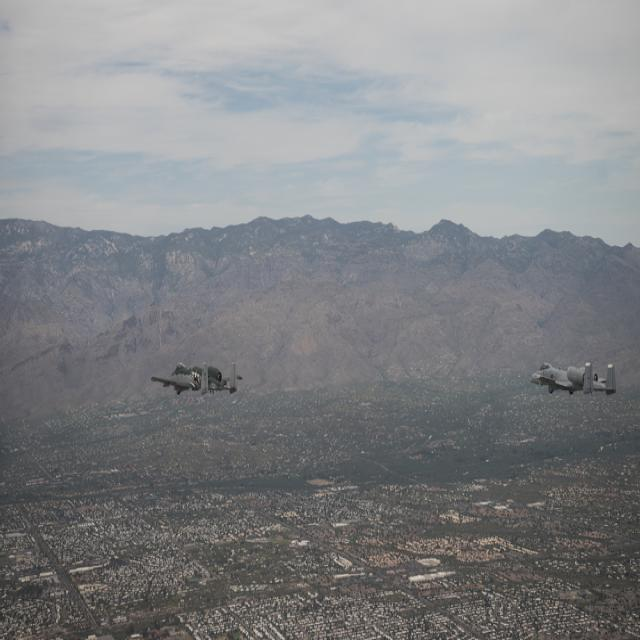MIL_Plane: (150, 361, 244, 396), (530, 362, 616, 396)
